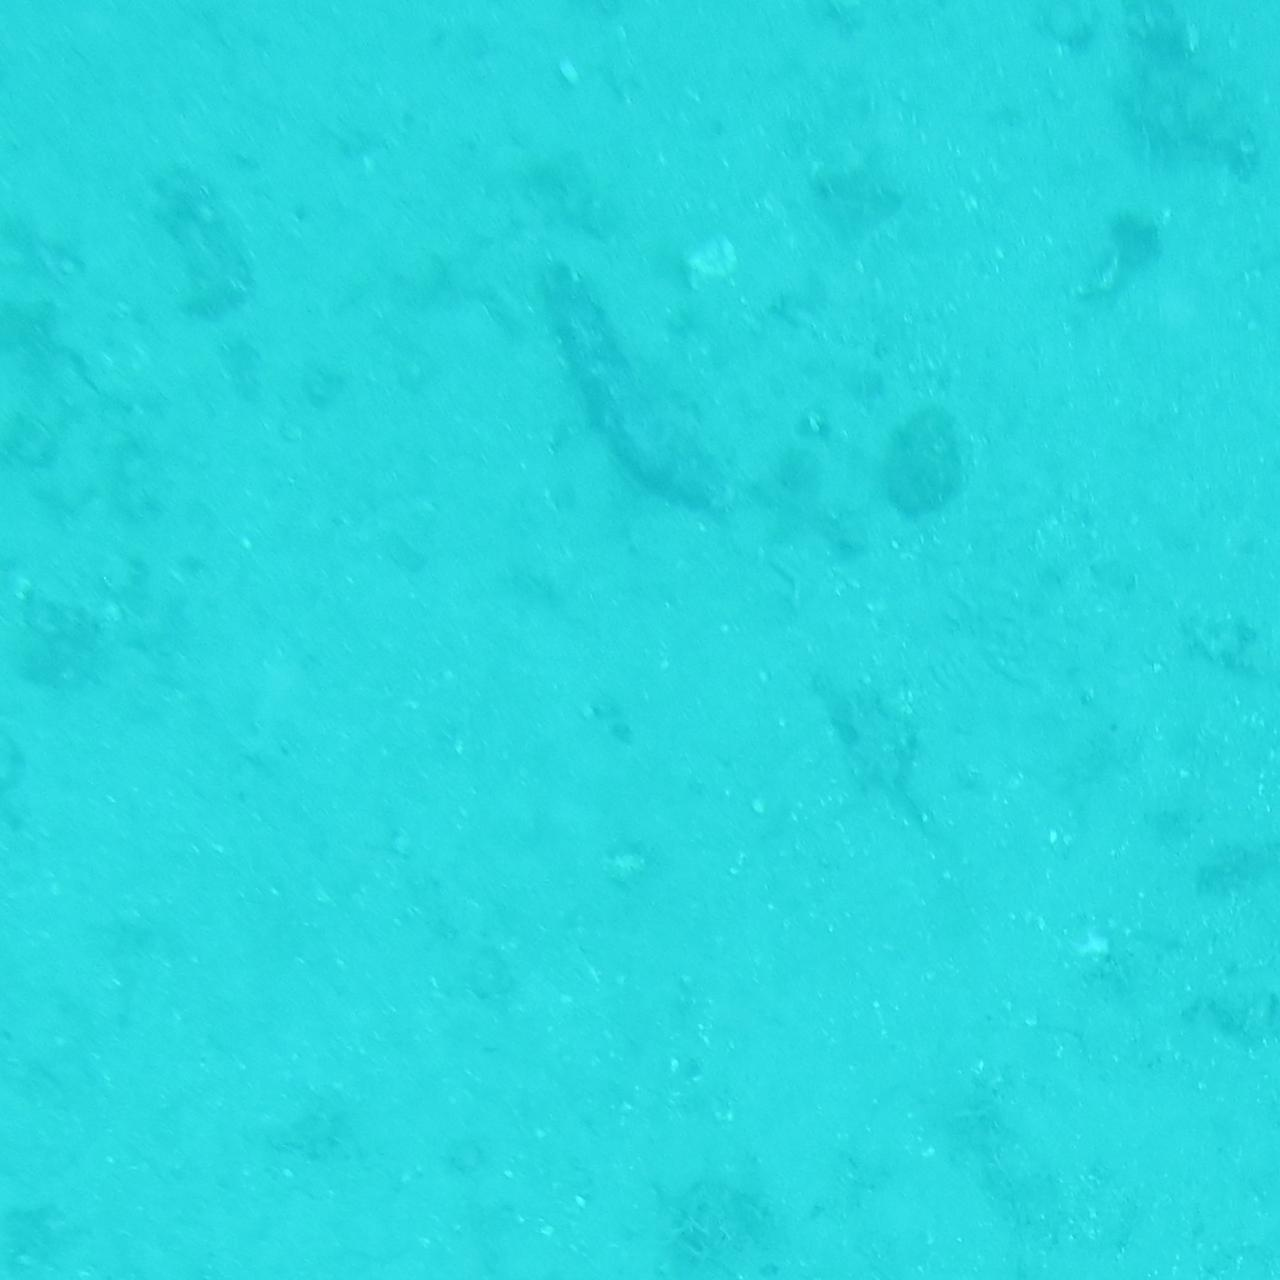Holothuria tubulosa: (522, 231, 758, 523)
